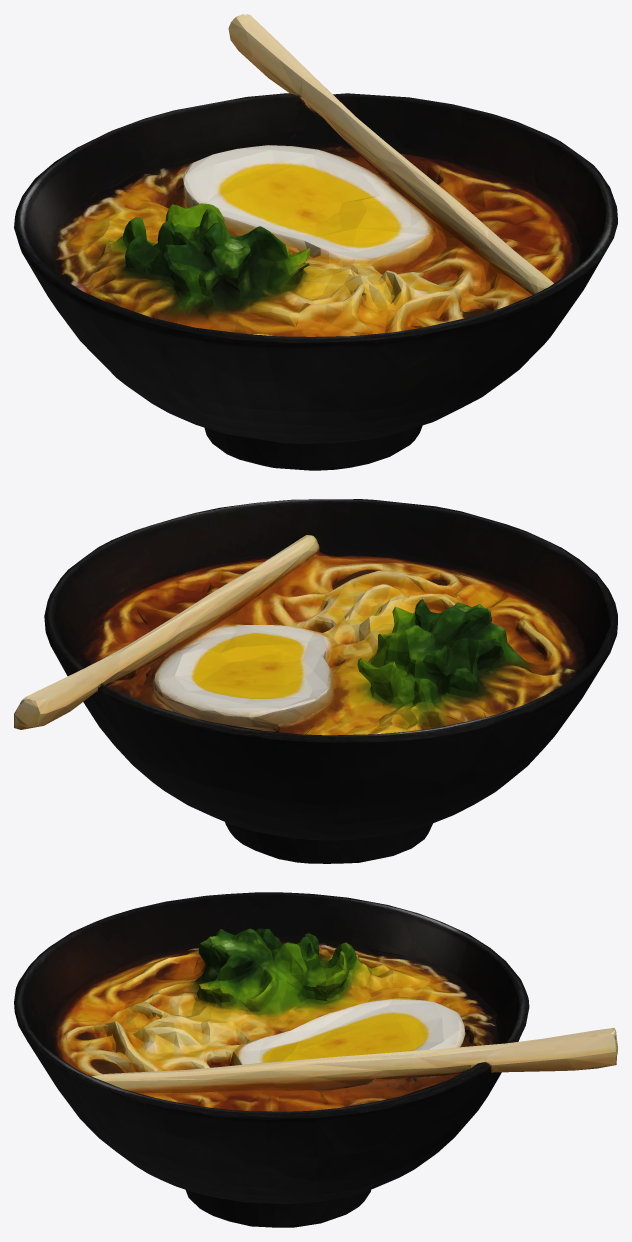
File: food_ramen_bowl.glb
3 views of the same model, one above another, from view 1: azimuth 30°, elevation 25°; view 2: azimuth 150°, elevation 25°; view 3: azimuth 270°, elevation 25° (orthographic). The views are drawn at different scales.
Parts seen in each view (by area): view 1: geometry_0; view 2: geometry_0; view 3: geometry_0.
Part boxes in pixels (bbox=[...]): geometry_0: bbox=[14, 14, 617, 470]; geometry_0: bbox=[14, 499, 617, 863]; geometry_0: bbox=[14, 892, 617, 1227].
Size of the model in its own units: 0.8696 by 0.3835 by 0.9923.
1 material, 1 textured.
